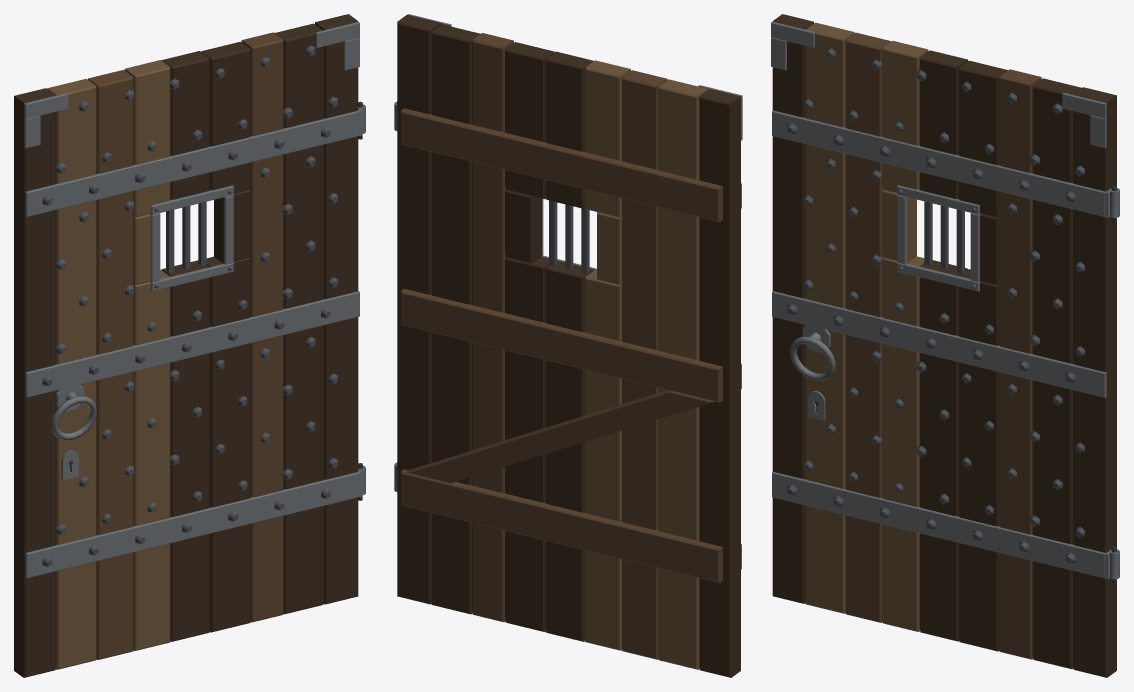
The model's file is SM_LPD_Door_DoorStudded_01.fbx.
The picture shows the model from 3 angles, left to right: view 1: azimuth 30°, elevation 25°; view 2: azimuth 150°, elevation 25°; view 3: azimuth 330°, elevation 25°; orthographic projection.
Visible parts, largest first — view 1: SM_LPD_Door_DoorStudded_01; view 2: SM_LPD_Door_DoorStudded_01; view 3: SM_LPD_Door_DoorStudded_01.
Boxes of the visible parts, left/top/right/bottom form: SM_LPD_Door_DoorStudded_01: left=14, top=14, right=365, bottom=677; SM_LPD_Door_DoorStudded_01: left=394, top=14, right=742, bottom=677; SM_LPD_Door_DoorStudded_01: left=771, top=14, right=1119, bottom=677.
Size of the model in its own units: 1.59 by 2.55 by 0.1887.
